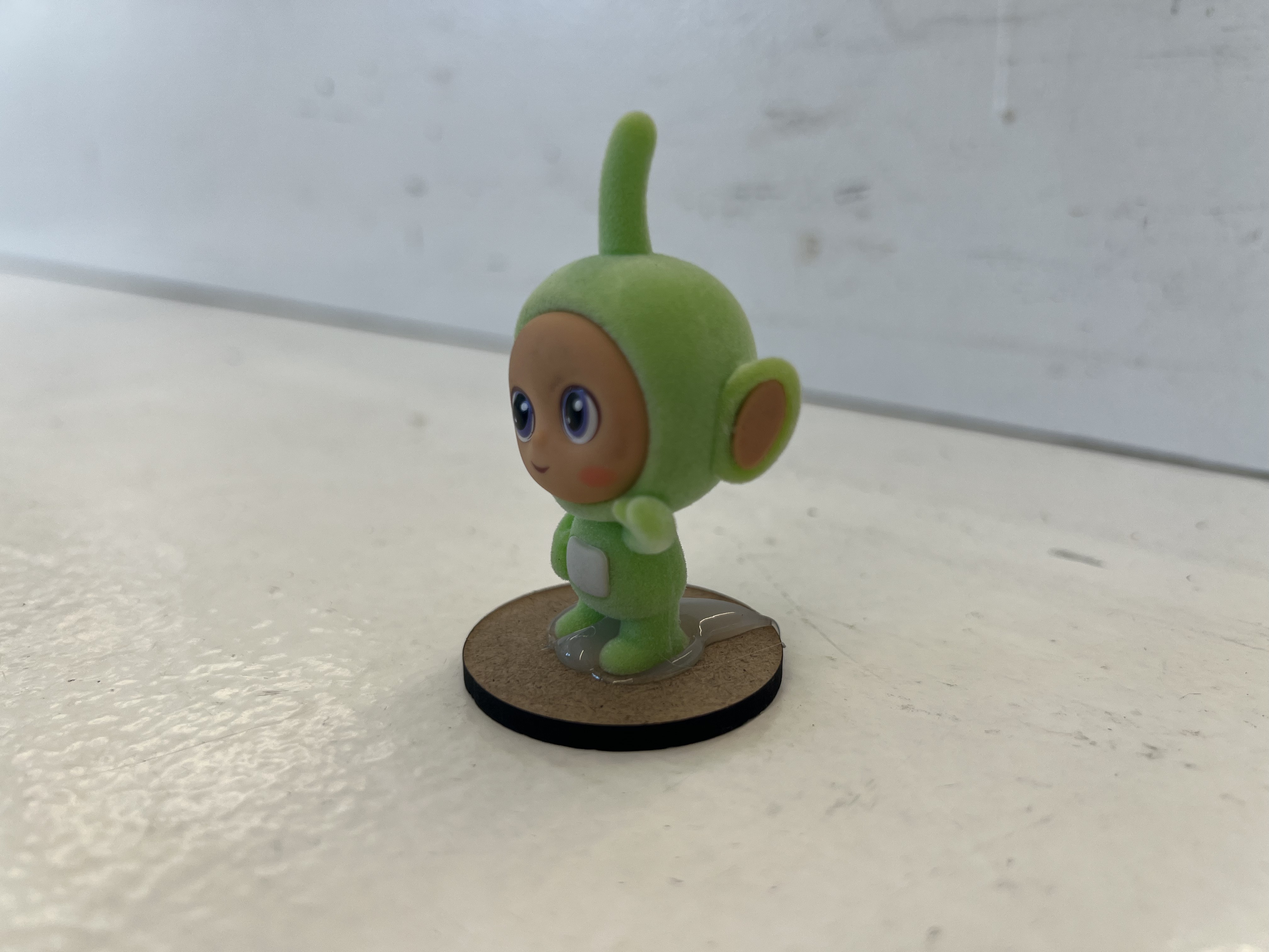teletubby: (508, 113, 800, 683)
